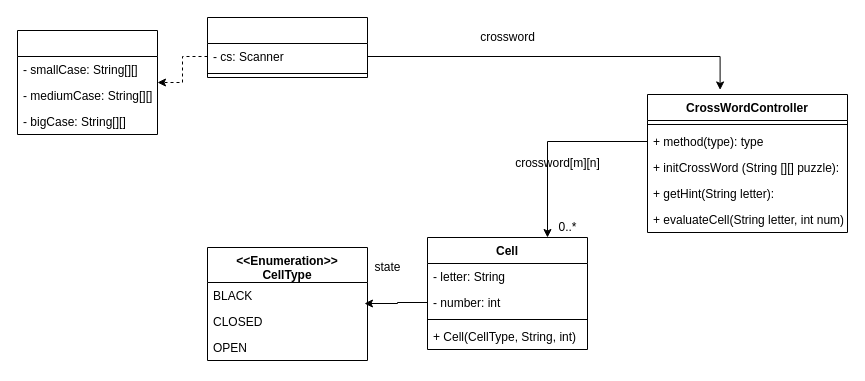
Some shapes in this 865 by 381 pixel diagram are drawn without their labels. Each missing label, with the box of its shape:
MainCrossword: (206, 16, 368, 78)
TestCase: (16, 30, 158, 134)
